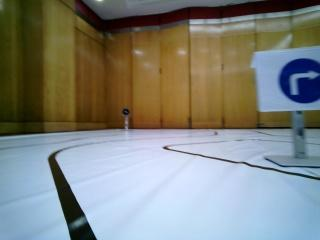right: (262, 49, 320, 109)
